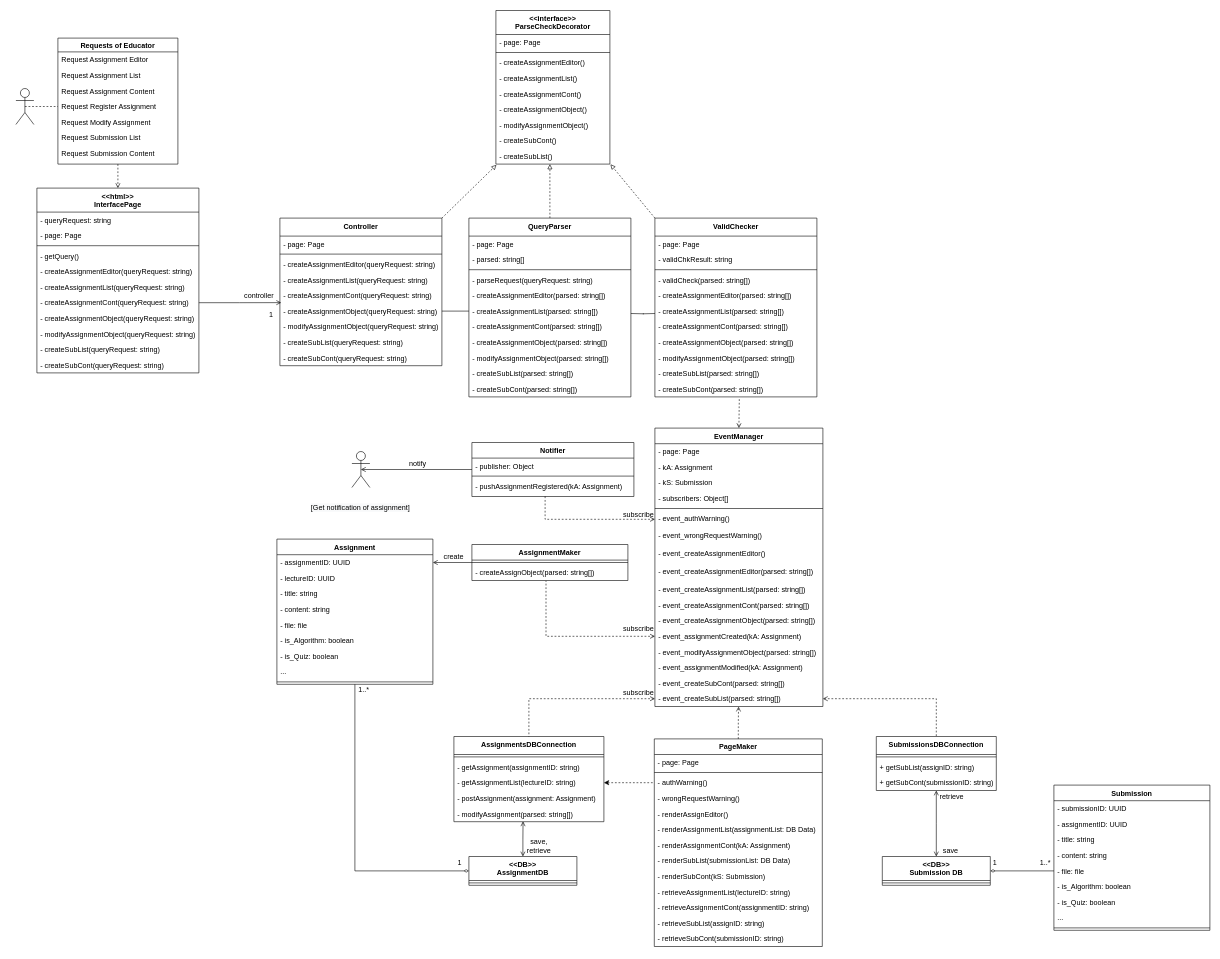
Image size: 1220x959. Some labels were removed from this diagram. The shapes that lost their labels are listed below. From the top down, each one's centre as x and y in pixels, then its label:
At (x=24, y=106): "Educator".
At (x=360, y=469): "Student".
